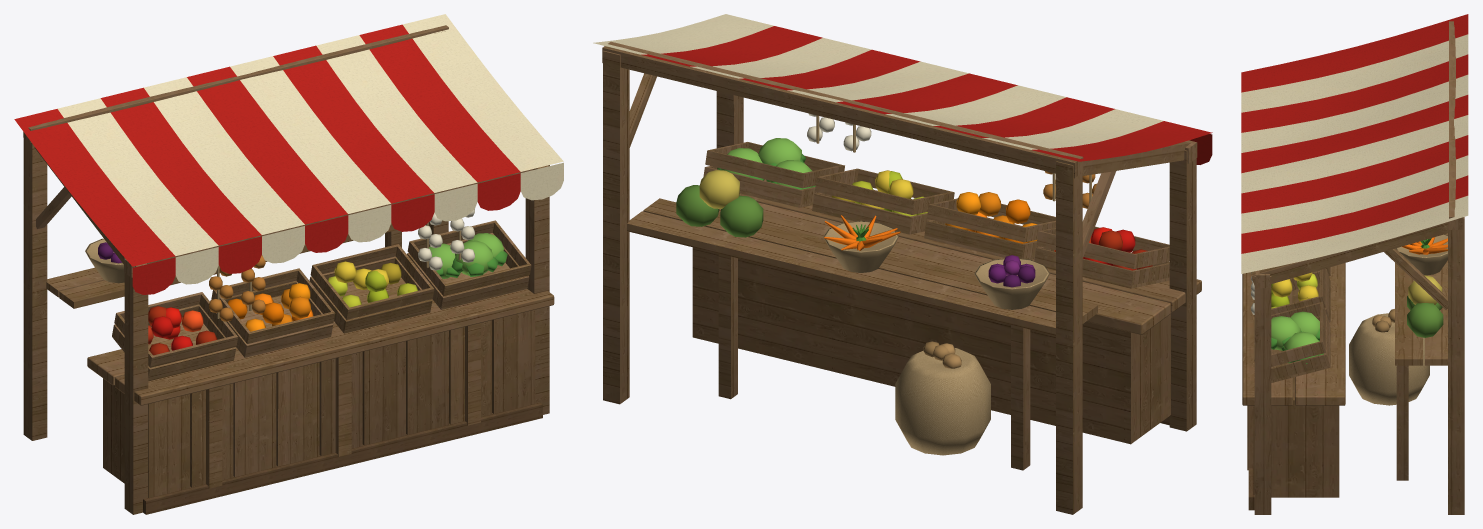
The model's file is market_stall_fruit.glb.
The picture shows the model from 3 angles, left to right: view 1: azimuth 30°, elevation 25°; view 2: azimuth 150°, elevation 25°; view 3: azimuth 270°, elevation 25°; orthographic projection. The views are drawn at different scales.
Parts seen in each view (by area): view 1: prop; view 2: prop; view 3: prop.
Boxes of the visible parts, x1,y1,x2,y2 form: prop: (14, 14, 563, 514); prop: (593, 14, 1212, 514); prop: (1241, 14, 1468, 514).
Size of what is drawn, in the model's own units: 2 by 1.4 by 0.9515.
Materials: 6 (4 with a texture image).
